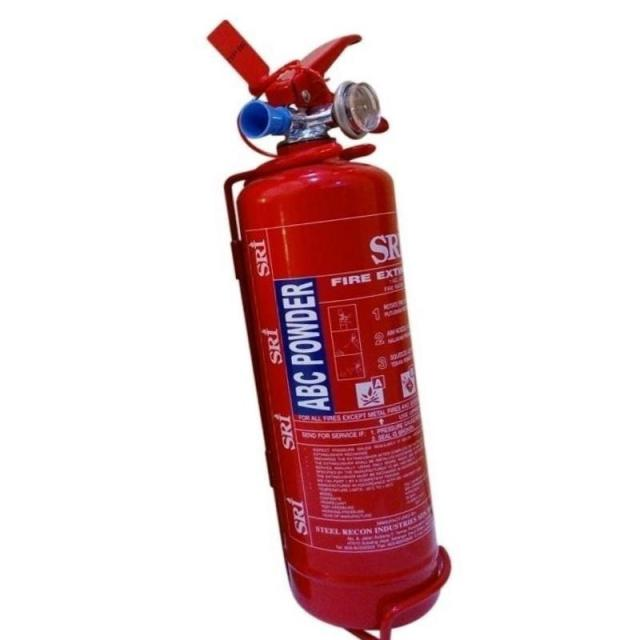fire_extinguisher: (204, 15, 448, 640)
